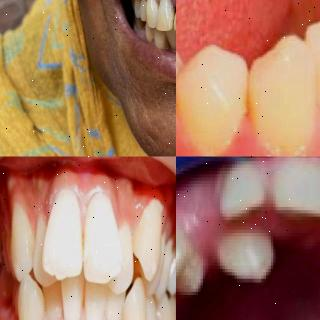maligned: (212, 231, 281, 291), (44, 189, 82, 271), (214, 160, 262, 222), (85, 197, 115, 279), (134, 208, 164, 272), (31, 218, 57, 284), (107, 227, 137, 282), (17, 271, 49, 320), (123, 279, 155, 320)
